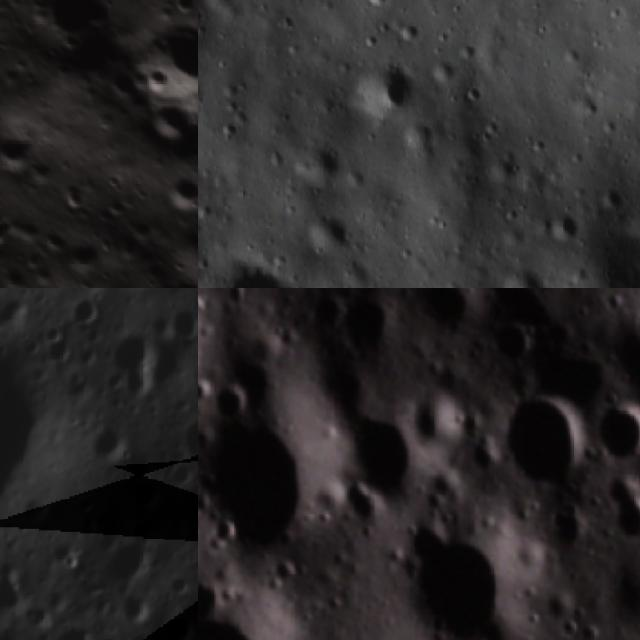crater: (198, 388, 331, 568), (393, 516, 535, 640), (335, 398, 454, 512), (488, 388, 589, 497), (119, 0, 198, 119), (7, 0, 119, 69), (126, 86, 198, 161), (334, 296, 403, 372), (100, 320, 160, 384), (413, 288, 482, 338), (403, 393, 465, 448), (594, 395, 640, 468), (484, 314, 539, 371), (364, 57, 411, 122), (0, 116, 45, 181), (149, 162, 198, 221), (204, 368, 253, 424), (604, 478, 640, 552), (198, 604, 272, 640), (85, 418, 137, 467), (166, 405, 198, 471), (108, 581, 154, 626), (286, 145, 346, 179), (307, 211, 358, 248), (61, 292, 106, 332), (126, 474, 167, 511), (165, 302, 198, 345), (0, 202, 24, 260), (198, 571, 225, 622), (159, 607, 198, 640), (160, 570, 198, 600), (159, 263, 198, 288), (502, 269, 547, 288), (546, 215, 576, 243), (119, 630, 156, 640)
